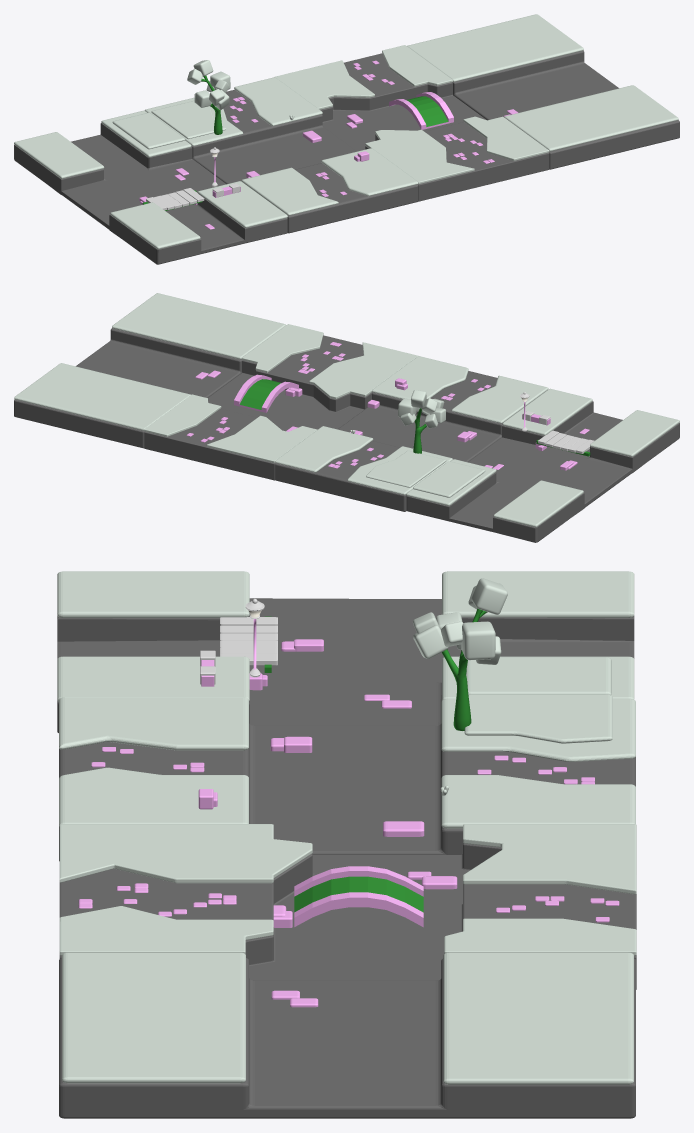
File: fishing_game_deme_bds_wol_bilmem_kac.fbx
3 views of the same model, one above another, from view 1: azimuth 30°, elevation 25°; view 2: azimuth 150°, elevation 25°; view 3: azimuth 270°, elevation 25° (orthographic). The views are drawn at different scales.
Visible parts, largest first — view 1: Ground 4, Ground 3, Ground 2, Ground 1, Tree, Bridge, Bridge 2; view 2: Ground 4, Ground 3, Ground 1, Ground 2, Tree, Bridge, Bridge 2; view 3: Ground 3, Ground 2, Ground 1, Ground 4, Tree, Bridge, Bridge 2.
Boxes of the visible parts, bbox=[...] form: Ground 4: bbox=[14, 110, 287, 264]; Ground 3: bbox=[407, 14, 679, 169]; Ground 2: bbox=[144, 77, 418, 233]; Ground 1: bbox=[274, 45, 549, 201]; Tree: bbox=[187, 60, 230, 134]; Bridge: bbox=[389, 92, 453, 129]; Bridge 2: bbox=[142, 188, 204, 210]; Ground 4: bbox=[406, 388, 679, 542]; Ground 3: bbox=[14, 293, 285, 448]; Ground 1: bbox=[144, 324, 418, 480]; Ground 2: bbox=[275, 356, 548, 511]; Tree: bbox=[398, 390, 445, 453]; Bridge: bbox=[234, 374, 298, 412]; Bridge 2: bbox=[536, 430, 594, 456]; Ground 3: bbox=[59, 952, 635, 1118]; Ground 2: bbox=[59, 694, 635, 861]; Ground 1: bbox=[59, 824, 636, 989]; Ground 4: bbox=[57, 571, 634, 732]; Tree: bbox=[413, 578, 507, 730]; Bridge: bbox=[294, 866, 423, 927]; Bridge 2: bbox=[220, 616, 277, 672].
Size of the model in its own units: 800 by 130 by 383.
